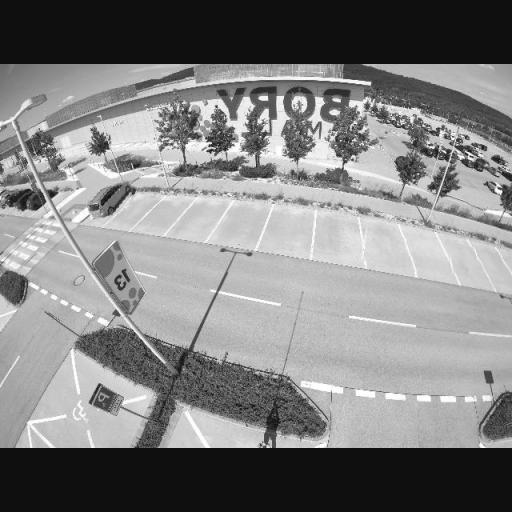busy: (85, 182, 134, 218), (17, 191, 45, 212), (0, 188, 19, 210), (418, 142, 438, 158), (484, 180, 503, 194), (324, 105, 342, 117), (473, 160, 487, 172), (460, 158, 476, 168)
free: (360, 229, 405, 267), (316, 224, 358, 256), (266, 218, 308, 248), (407, 240, 441, 272), (447, 244, 479, 276), (221, 216, 259, 237), (183, 210, 217, 232), (480, 250, 508, 275), (151, 207, 177, 222), (125, 202, 147, 217)
